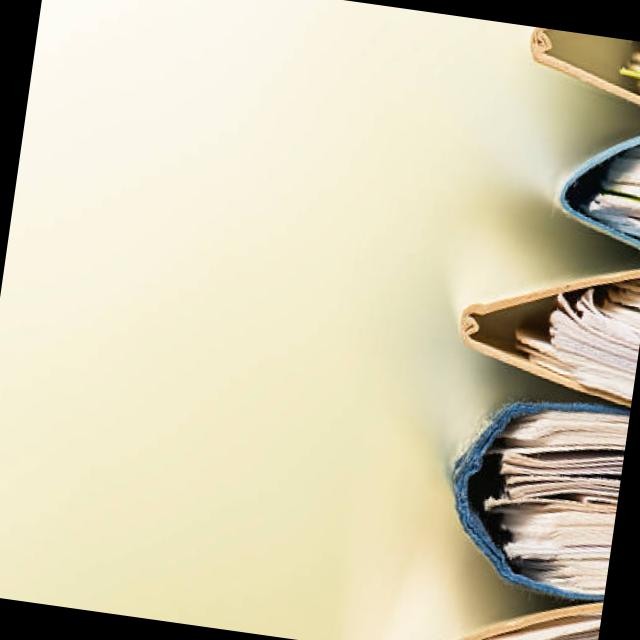electronic: (435, 382, 631, 606), (450, 231, 640, 409), (362, 558, 605, 640), (551, 109, 640, 256), (520, 26, 640, 125), (612, 39, 640, 120)
